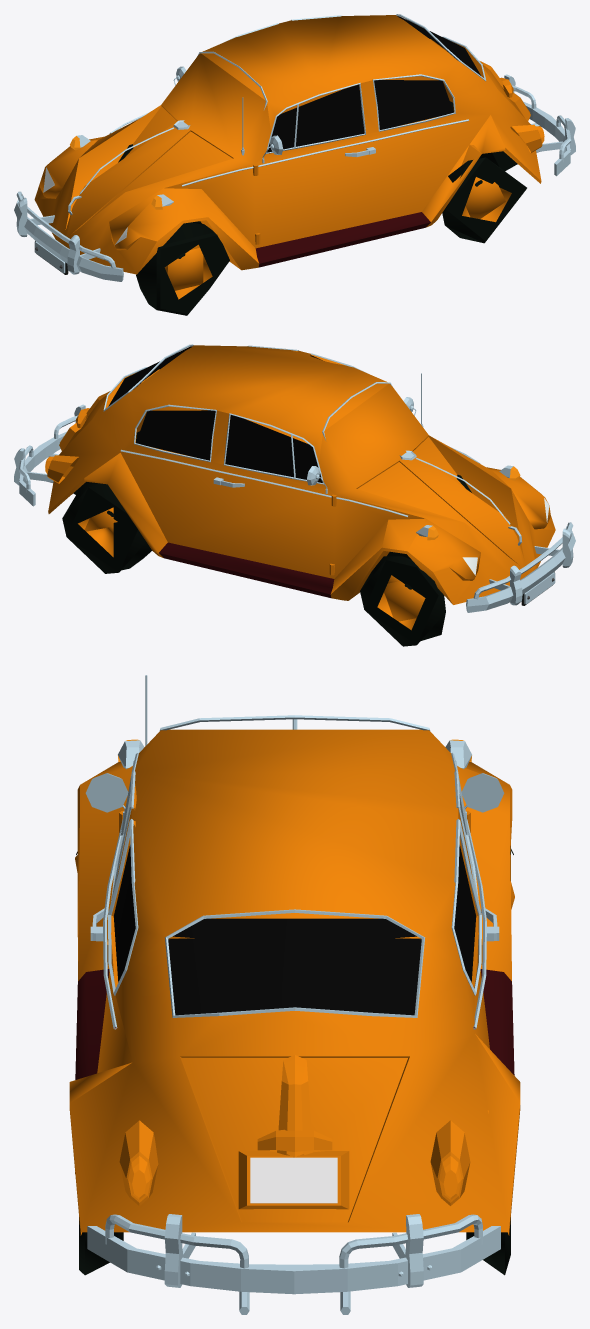
Rendered from beatall.lod.glb.
3 views of the same model, one above another, from view 1: azimuth 30°, elevation 25°; view 2: azimuth 150°, elevation 25°; view 3: azimuth 270°, elevation 25° (orthographic). The views are drawn at different scales.
Parts seen in each view (by area): view 1: rfWheel; view 2: rfWheel; view 3: rfWheel.
Boxes of the visible parts, x1,y1,x2,y2 form: rfWheel: (14, 14, 575, 315); rfWheel: (14, 344, 575, 646); rfWheel: (69, 675, 520, 1314).
Bounding box in the file's own units: 4.6 × 1.63 × 1.76.
3 materials, 2 textured.
